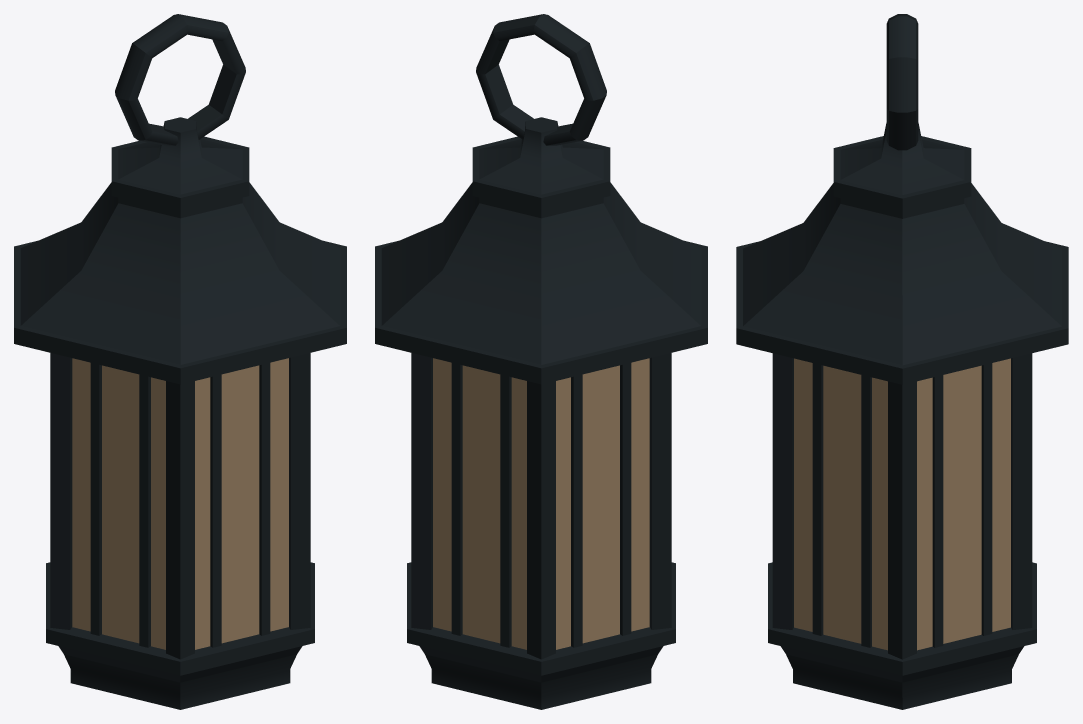
File: Lantern_Model.fbx
The picture shows the model from 3 angles, left to right: view 1: azimuth 30°, elevation 25°; view 2: azimuth 150°, elevation 25°; view 3: azimuth 270°, elevation 25°; orthographic projection.
Parts seen in each view (by area): view 1: Lantern1; view 2: Lantern1; view 3: Lantern1.
Part boxes in pixels (<box>): Lantern1: <box>14,14,346,709</box>; Lantern1: <box>375,14,707,709</box>; Lantern1: <box>736,14,1068,709</box>.
Size of the model in its own units: 53.81 by 98.98 by 46.6.
2 materials, 2 textured.
